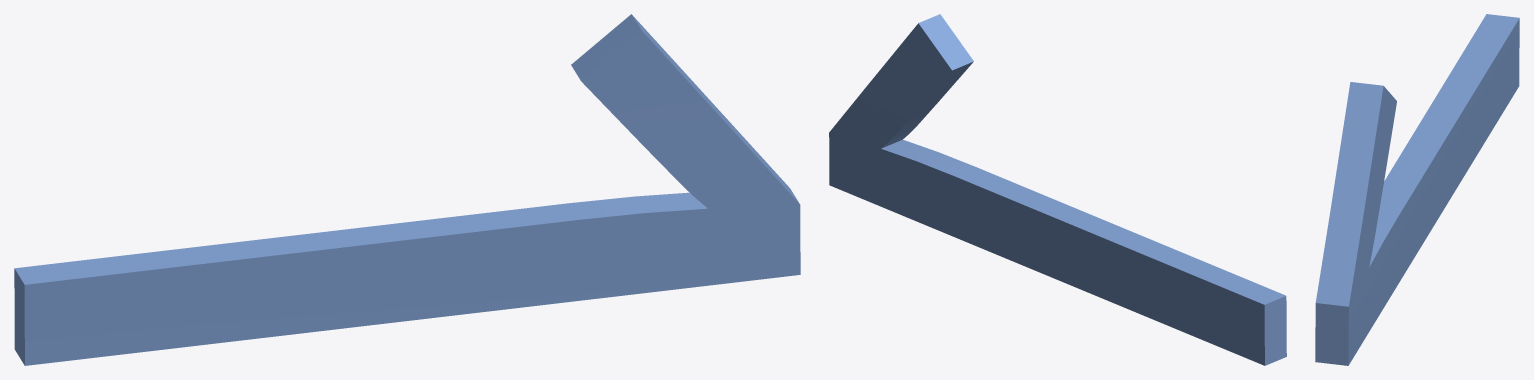
File: Number_1.gltf
3 renders of one model, left to right at view 1: azimuth 30°, elevation 25°; view 2: azimuth 150°, elevation 25°; view 3: azimuth 270°, elevation 25°, orthographic. The views are drawn at different scales.
Visible parts, largest first — view 1: Sub_1_Cell_2_2_Number_1; view 2: Sub_1_Cell_2_2_Number_1; view 3: Sub_1_Cell_2_2_Number_1.
Part boxes in pixels (left/top/right/bottom): Sub_1_Cell_2_2_Number_1: left=14, top=14, right=800, bottom=365; Sub_1_Cell_2_2_Number_1: left=829, top=14, right=1286, bottom=365; Sub_1_Cell_2_2_Number_1: left=1315, top=14, right=1519, bottom=365.
Bounding box in the file's own units: 0.0247 × 0.00907 × 0.00754.
